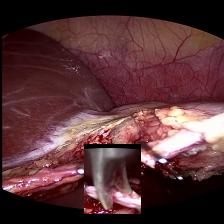Scissors: (83, 144, 140, 214)
